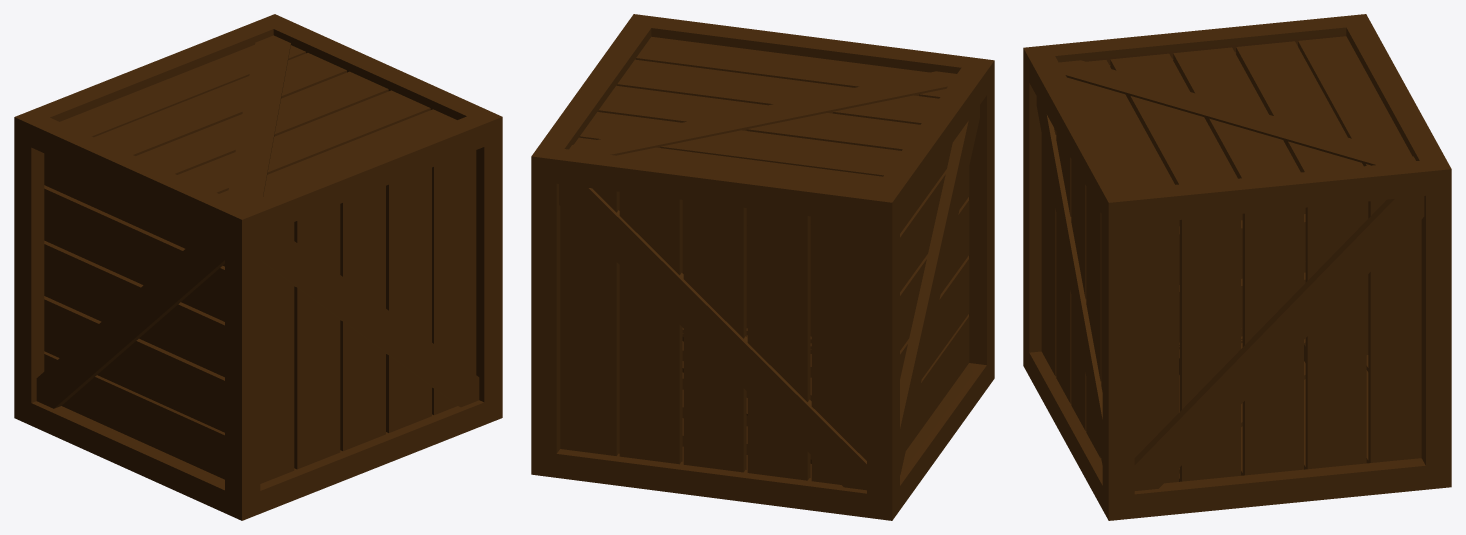
3 renders of one model, left to right at view 1: azimuth 30°, elevation 25°; view 2: azimuth 150°, elevation 25°; view 3: azimuth 270°, elevation 25°, orthographic. The views are drawn at different scales.
Parts seen in each view (by area): view 1: Box.003; view 2: Box.003; view 3: Box.003.
Boxes of the visible parts, x1,y1,x2,y2 form: Box.003: [14, 14, 502, 520]; Box.003: [531, 14, 994, 520]; Box.003: [1023, 14, 1451, 520].
Size of the model in its own units: 72.54 by 56.95 by 69.52.
